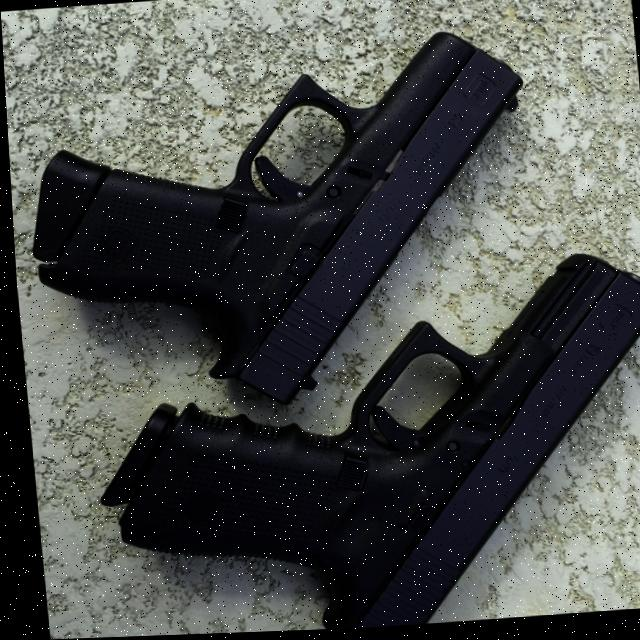pistol: (77, 253, 640, 638), (14, 30, 545, 421)
